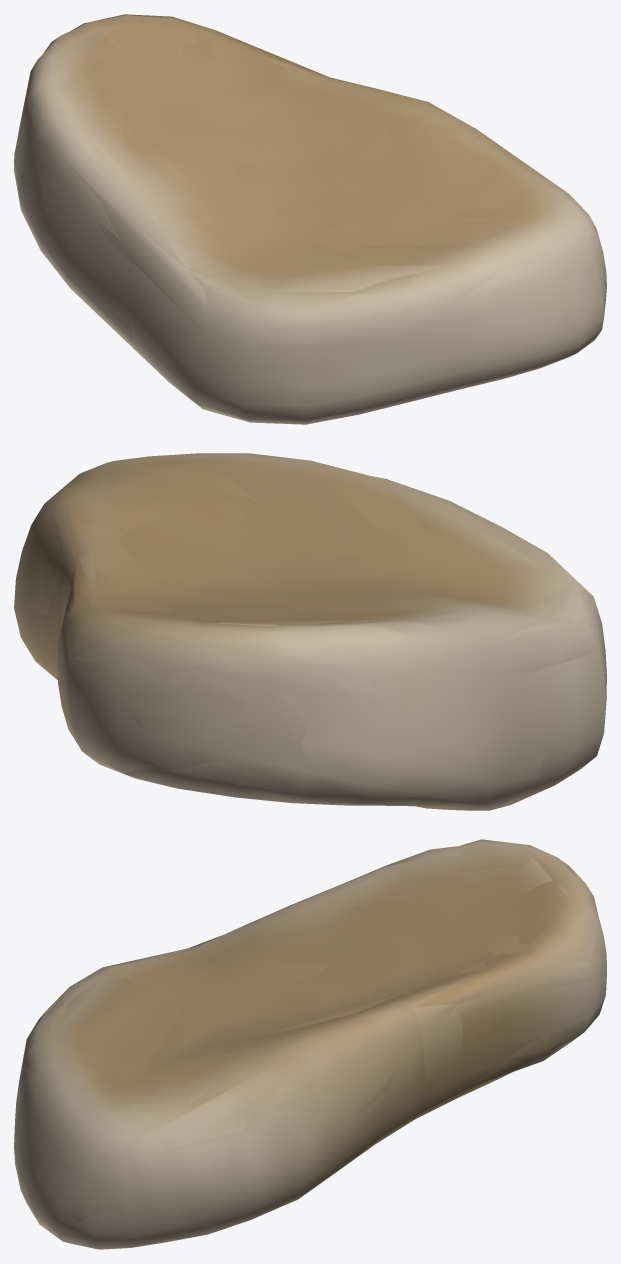
The model's file is L tarsi centrale.fbx.
3 views of the same model, one above another, from view 1: azimuth 30°, elevation 25°; view 2: azimuth 150°, elevation 25°; view 3: azimuth 270°, elevation 25° (orthographic). The views are drawn at different scales.
Visible parts, largest first — view 1: L tarsi centrale, L tarsi centrale low; view 2: L tarsi centrale, L tarsi centrale low; view 3: L tarsi centrale, L tarsi centrale low.
Part boxes in pixels (x1=…): L tarsi centrale: x1=14, y1=14, x2=606, y2=424; L tarsi centrale low: x1=20, y1=14, x2=606, y2=423; L tarsi centrale: x1=14, y1=453, x2=606, y2=810; L tarsi centrale low: x1=16, y1=456, x2=603, y2=810; L tarsi centrale: x1=14, y1=839, x2=606, y2=1249; L tarsi centrale low: x1=21, y1=840, x2=598, y2=1248.
Size of the model in its own units: 6 by 3.09 by 6.76.
